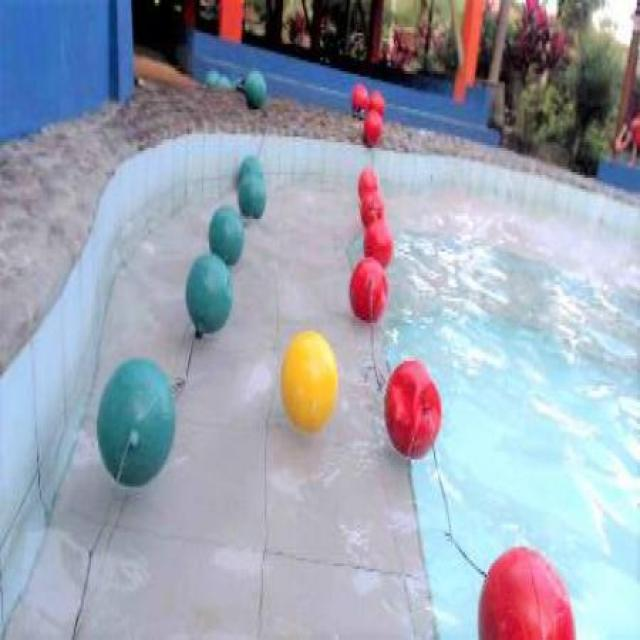buoy: (94, 356, 176, 486), (477, 544, 575, 638), (280, 330, 339, 431), (383, 357, 442, 458), (183, 252, 232, 334), (348, 256, 387, 324), (207, 204, 242, 267), (362, 217, 392, 269), (236, 171, 266, 217), (243, 67, 265, 108), (361, 188, 384, 227), (239, 154, 263, 190), (362, 108, 382, 144), (358, 168, 378, 198), (352, 83, 368, 113), (367, 88, 384, 114)
